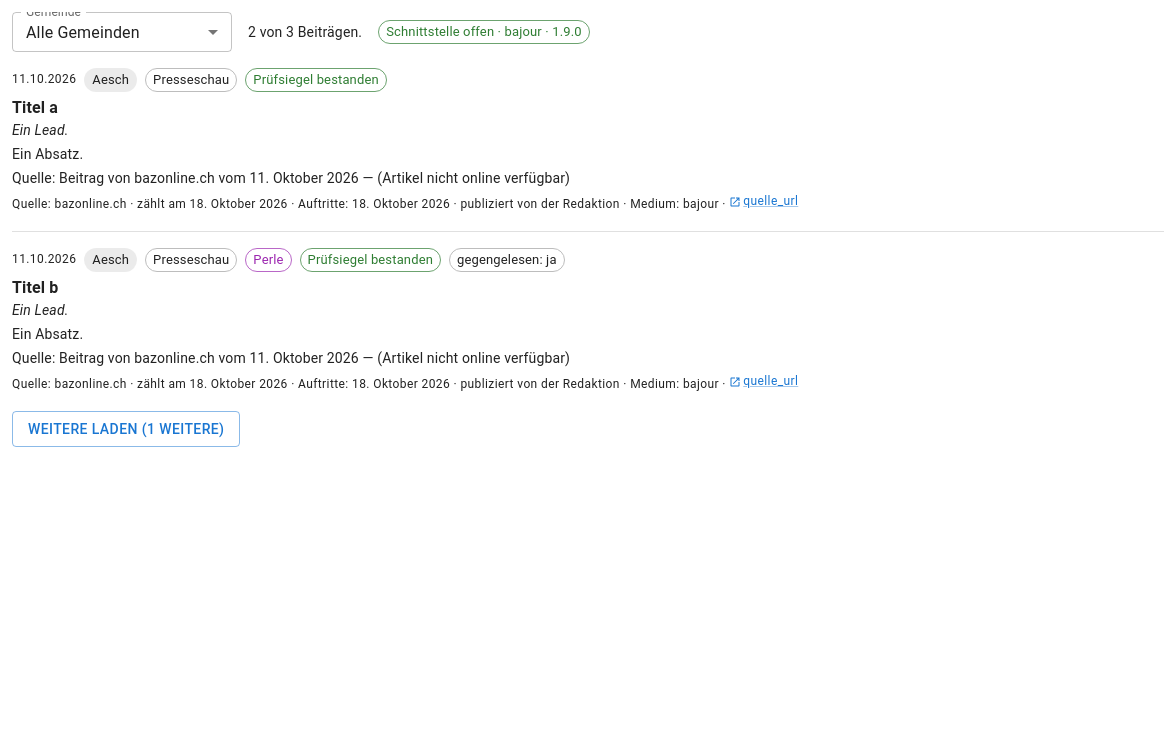
it: ApiBlog — die Live-Ansicht der Schnittstelle › zeigt, was /api/v1/artikel liefert: Beitraege, Zaehler, Siegel, Quelle, Termin
Expected: the text "Titel a" is shown, [12,98,58,117]
Expected: the text "2 von 3 Beiträgen." is shown, [248,22,362,42]
Click the button "Weitere laden (1 weitere)": (126, 429) [12,411,240,447]
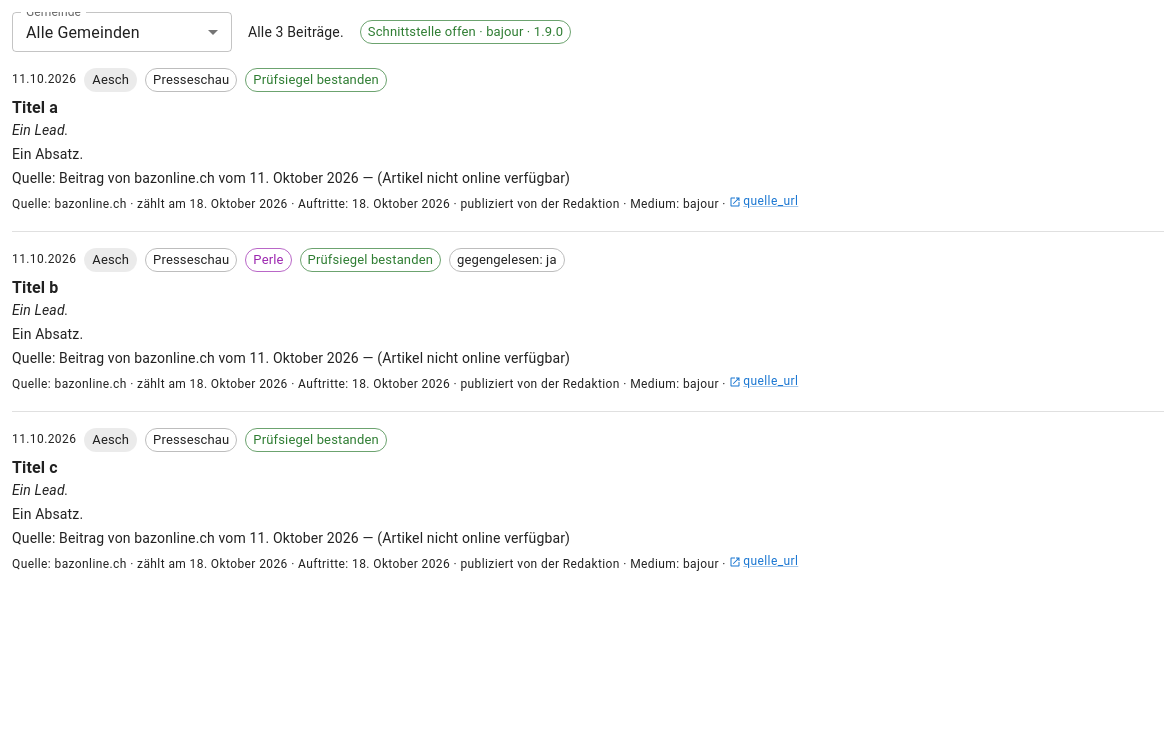
Expected: the text "Titel c" is shown, [12,458,58,477]
Expected: the text "Alle 3 Beiträge." is shown, [248,22,344,42]
Expected: the button "Weitere laden" is gone
